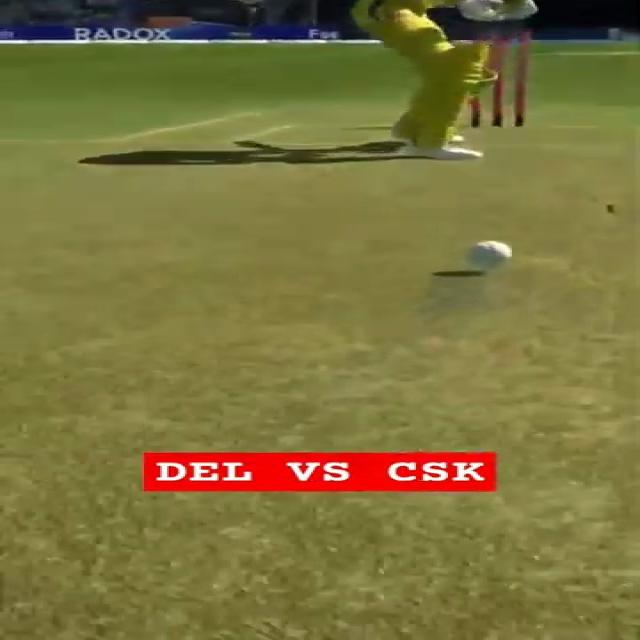ball: (466, 240, 512, 265)
